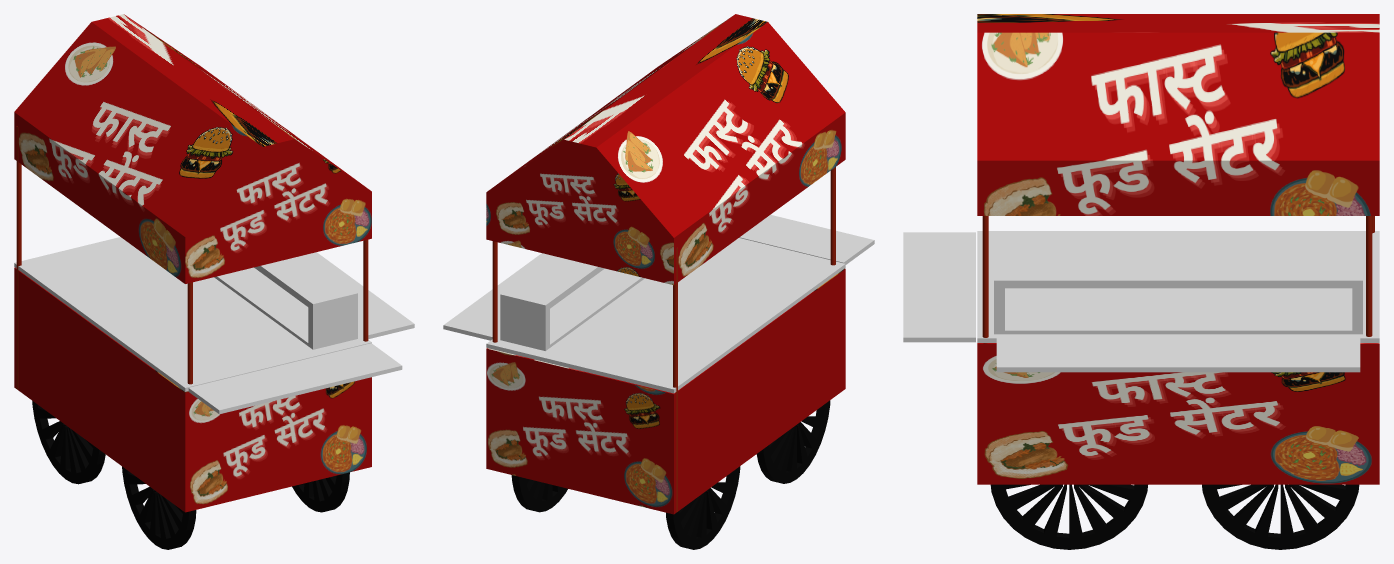
File: vENDOR.fbx
3 views of the same model, side by side, from view 1: azimuth 30°, elevation 25°; view 2: azimuth 150°, elevation 25°; view 3: azimuth 270°, elevation 25° (orthographic). The views are drawn at different scales.
Visible parts, largest first — view 1: Cube.004, Cube, Cube.001, Plane, Cube.003, Circle.002, Circle.003, Cube.002, Circle, Cylinder.003, Cylinder, Cylinder.002; view 2: Cube.004, Cube, Cube.001, Plane, Cube.003, Circle.003, Circle.002, Cube.002, Circle.001, Cylinder.003, Cylinder.001, Cylinder.002; view 3: Cube.004, Cube, Plane, Cube.001, Cube.002, Cube.003, Circle.001, Circle, Cylinder, Cylinder.001.
Part boxes in pixels (x1,y1,x2,y2): Cube.004: (14, 14, 371, 283); Cube: (14, 267, 371, 512); Cube.001: (14, 237, 371, 391); Plane: (214, 255, 357, 349); Cube.003: (188, 343, 402, 414); Circle.002: (122, 466, 196, 549); Circle.003: (32, 401, 105, 484); Cube.002: (306, 252, 414, 339); Circle: (292, 472, 349, 512); Cylinder.003: (16, 126, 21, 389); Cylinder: (363, 239, 368, 341); Cylinder.002: (187, 282, 192, 384); Cube.004: (486, 14, 845, 285); Cube: (486, 268, 845, 514); Cube.001: (486, 238, 845, 393); Plane: (500, 256, 644, 350); Cube.003: (739, 214, 874, 264); Circle.003: (666, 466, 740, 549); Circle.002: (756, 400, 830, 483); Cube.002: (443, 253, 552, 340); Circle.001: (511, 475, 567, 512); Cylinder.003: (673, 247, 677, 512); Cylinder.001: (492, 241, 497, 342); Cylinder.002: (830, 167, 835, 265); Cube.004: (977, 14, 1379, 215); Cube: (977, 343, 1379, 484); Plane: (994, 254, 1362, 334); Cube.001: (977, 231, 1379, 342); Cube.002: (996, 338, 1360, 372); Cube.003: (903, 232, 975, 342); Circle.001: (1202, 484, 1359, 549); Circle: (990, 484, 1147, 549); Cylinder: (982, 216, 988, 343); Cylinder.001: (1366, 216, 1372, 336).
Bounding box in the file's own units: 641 × 1053 × 942.
5 materials, 2 textured.
